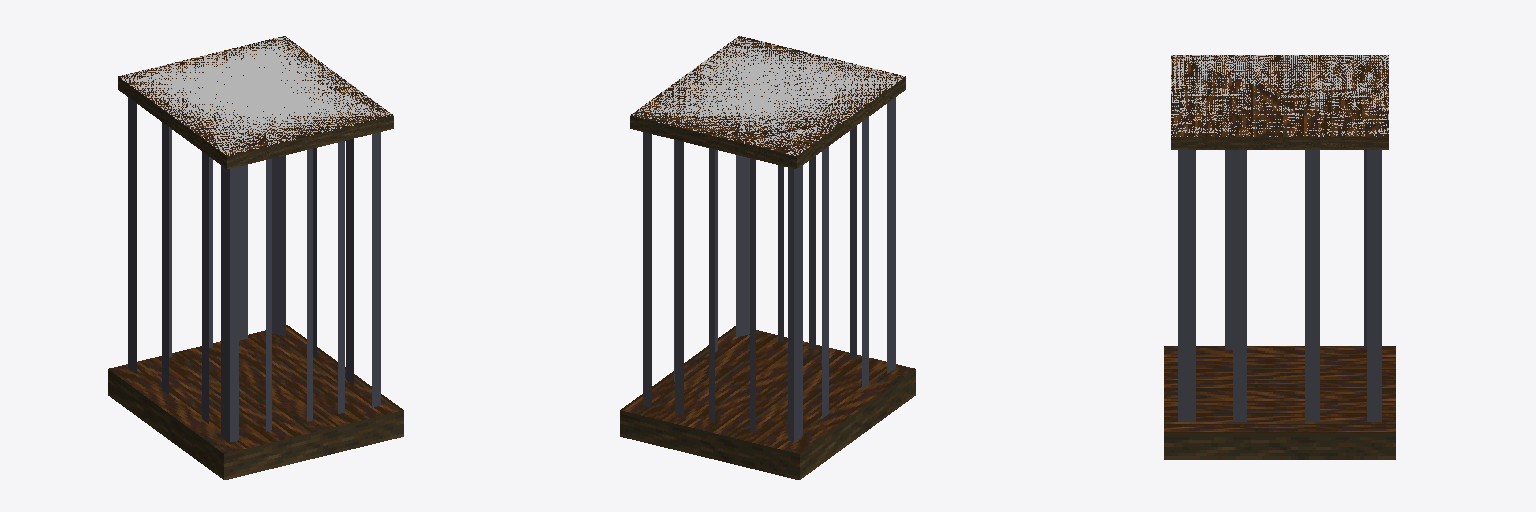
3 views of the same model, side by side, from view 1: azimuth 30°, elevation 25°; view 2: azimuth 150°, elevation 25°; view 3: azimuth 270°, elevation 25° (orthographic).
Visible parts, largest first — view 1: model41312-node; view 2: model41312-node; view 3: model41312-node.
Boxes of the visible parts, box(x1,y1,x2,y2) form: model41312-node: box(108, 36, 403, 479); model41312-node: box(620, 36, 915, 479); model41312-node: box(1164, 55, 1395, 459).
Bounding box in the file's own units: 57 × 97 × 64.
4 materials, 3 textured.